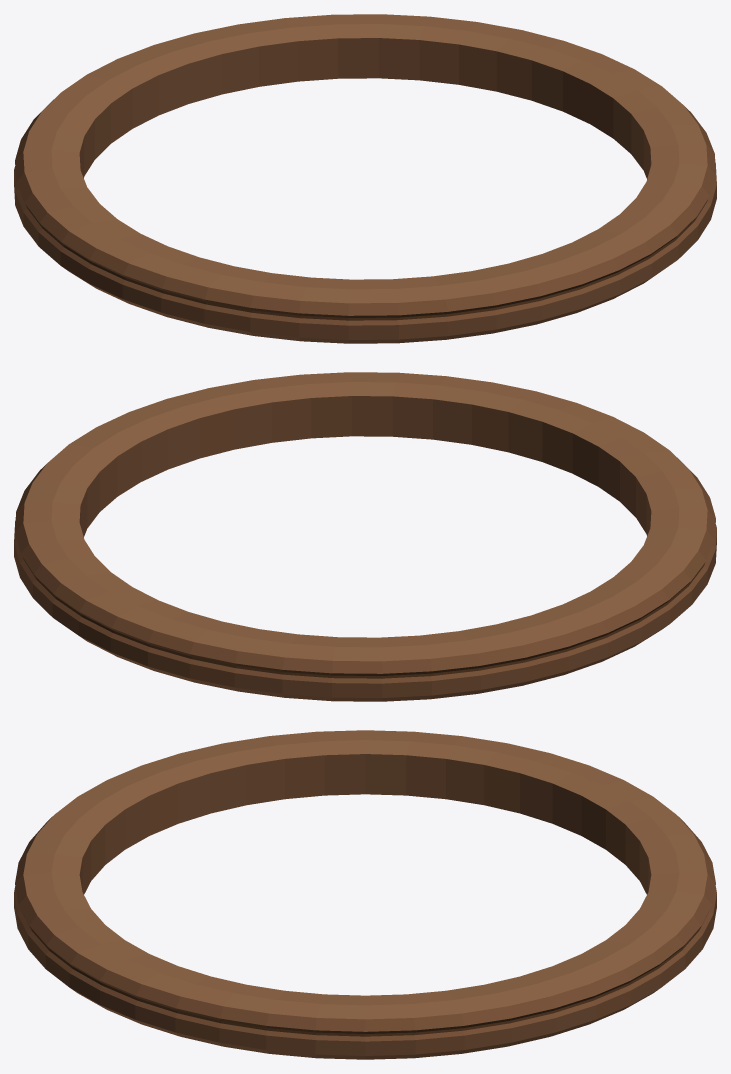
Rendered from jar_stand.glb.
The picture shows the model from 3 angles, top to bottom: view 1: azimuth 30°, elevation 25°; view 2: azimuth 150°, elevation 25°; view 3: azimuth 270°, elevation 25°; orthographic projection.
Parts seen in each view (by area): view 1: body; view 2: body; view 3: body.
Part boxes in pixels (<box>): body: <box>14,14,716,343</box>; body: <box>14,372,716,701</box>; body: <box>14,730,716,1059</box>.
Bounding box in the file's own units: 15 × 1 × 15.
